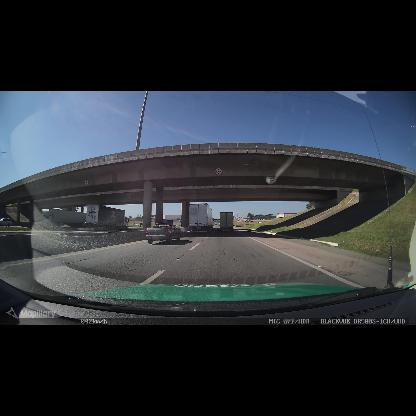R-15: (214, 168, 223, 176)
